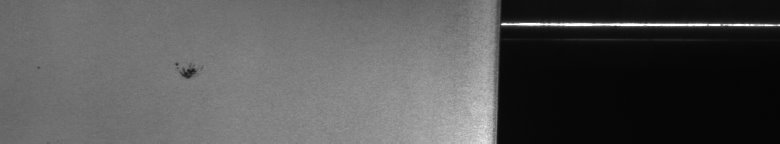fi: (174, 58, 204, 88)
